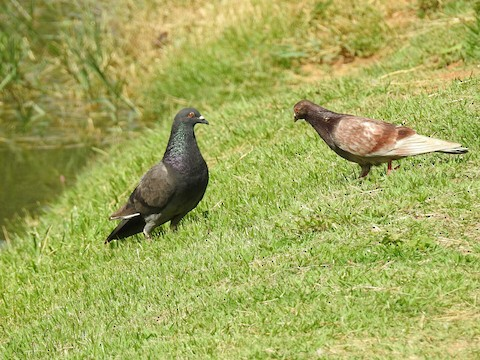pigeon: (102, 100, 214, 245), (289, 91, 472, 178)
